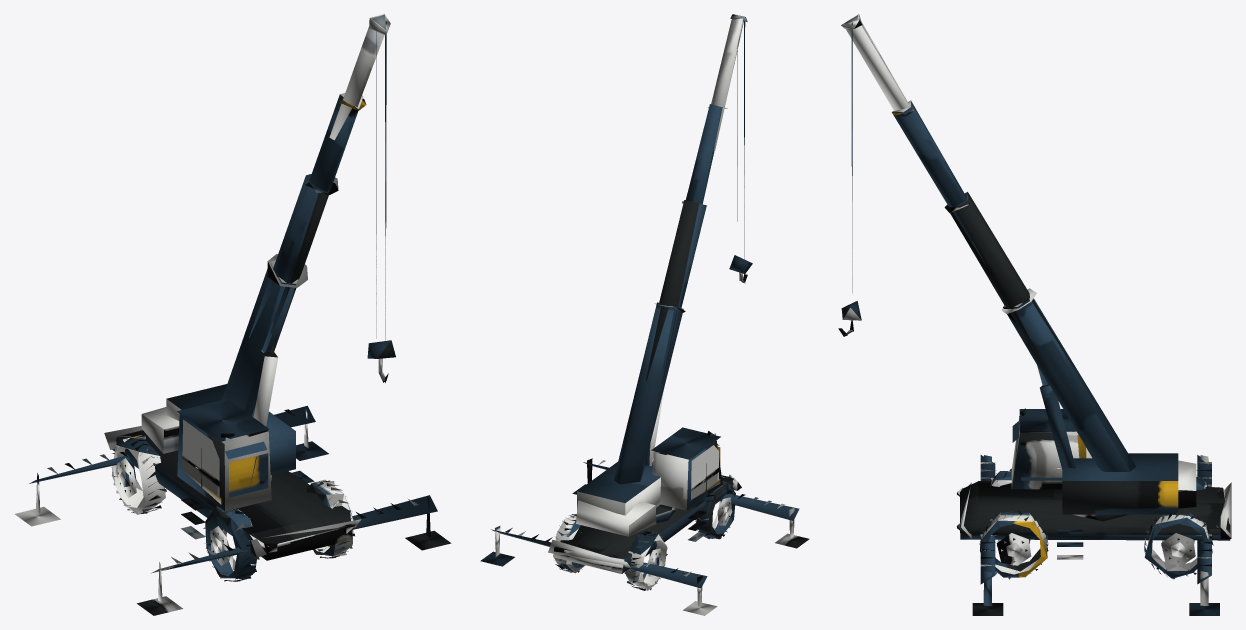
File: mobile_crane.lod2.obj
3 views of the same model, side by side, from view 1: azimuth 30°, elevation 25°; view 2: azimuth 150°, elevation 25°; view 3: azimuth 270°, elevation 25° (orthographic). The views are drawn at different scales.
Visible parts, largest first — view 1: mobile_crane; view 2: mobile_crane; view 3: mobile_crane.
Boxes of the visible parts, x1,y1,x2,y2 form: mobile_crane: [15, 14, 451, 615]; mobile_crane: [480, 14, 809, 615]; mobile_crane: [838, 14, 1231, 615].
Bounding box in the file's own units: 7.6 × 14.95 × 9.81.
Materials: 1 (1 with a texture image).
